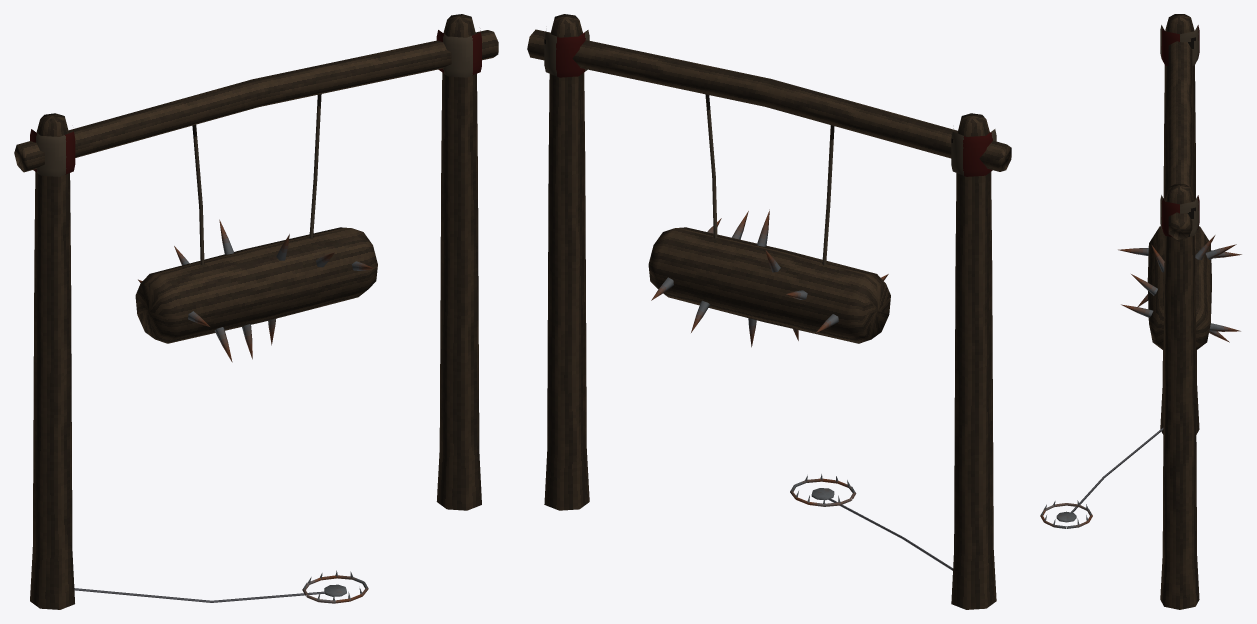
The model's file is ext_hanging_trap.glb.
3 renders of one model, left to right at view 1: azimuth 30°, elevation 25°; view 2: azimuth 150°, elevation 25°; view 3: azimuth 270°, elevation 25°, orthographic. The views are drawn at different scales.
Parts seen in each view (by area): view 1: detail, posts-col; view 2: detail, posts-col; view 3: posts-col, detail.
Boxes of the visible parts, x1,y1,x2,y2 form: detail: (14, 30, 498, 603); posts-col: (30, 14, 481, 609); detail: (527, 29, 1011, 570); posts-col: (544, 14, 996, 609); posts-col: (1160, 14, 1199, 609); detail: (1040, 25, 1241, 528).
Size of what is drawn, in the model's own units: 3.71 by 3.64 by 1.61.
4 materials, 4 textured.
